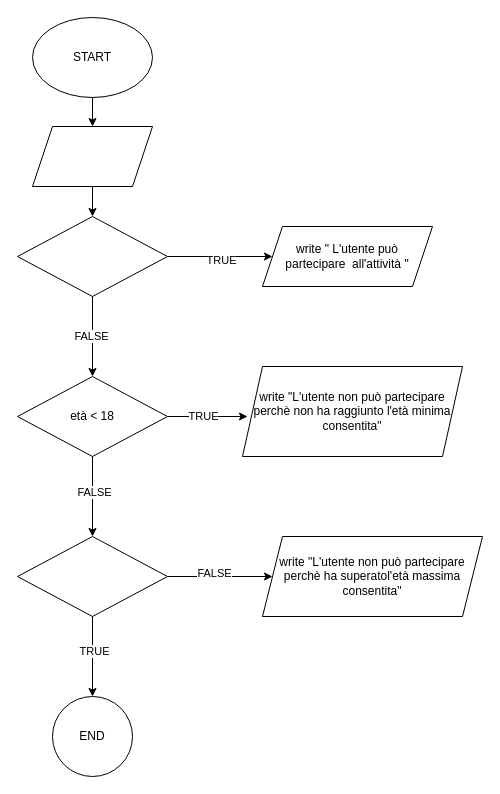
Image size: 500x794. Some labels were removed from this diagram. The shapes that lost their labels are listed below. From the top down, each one's centre as x and y in pixels, then its label:
At point (92, 156): "read età".
At point (92, 256): "18 < età < 65".
At point (92, 576): "età > 65".
